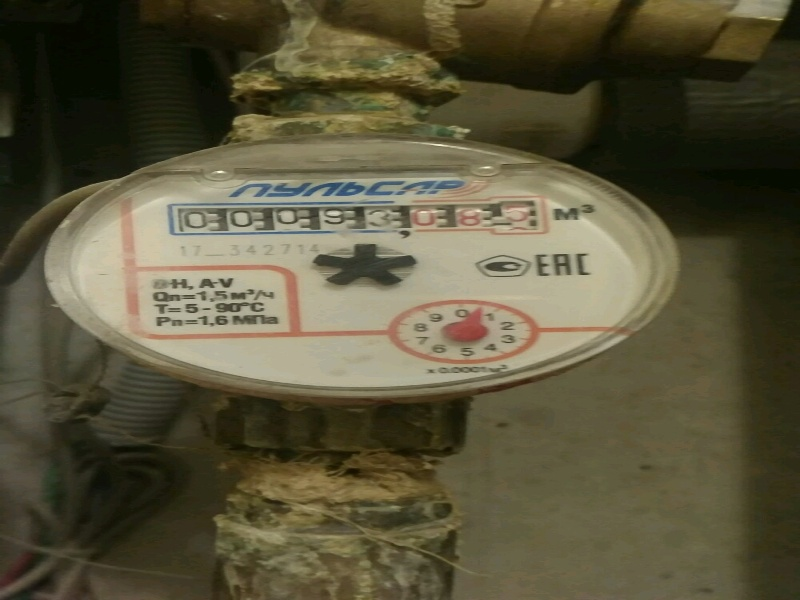meter: (177, 193, 539, 231)
